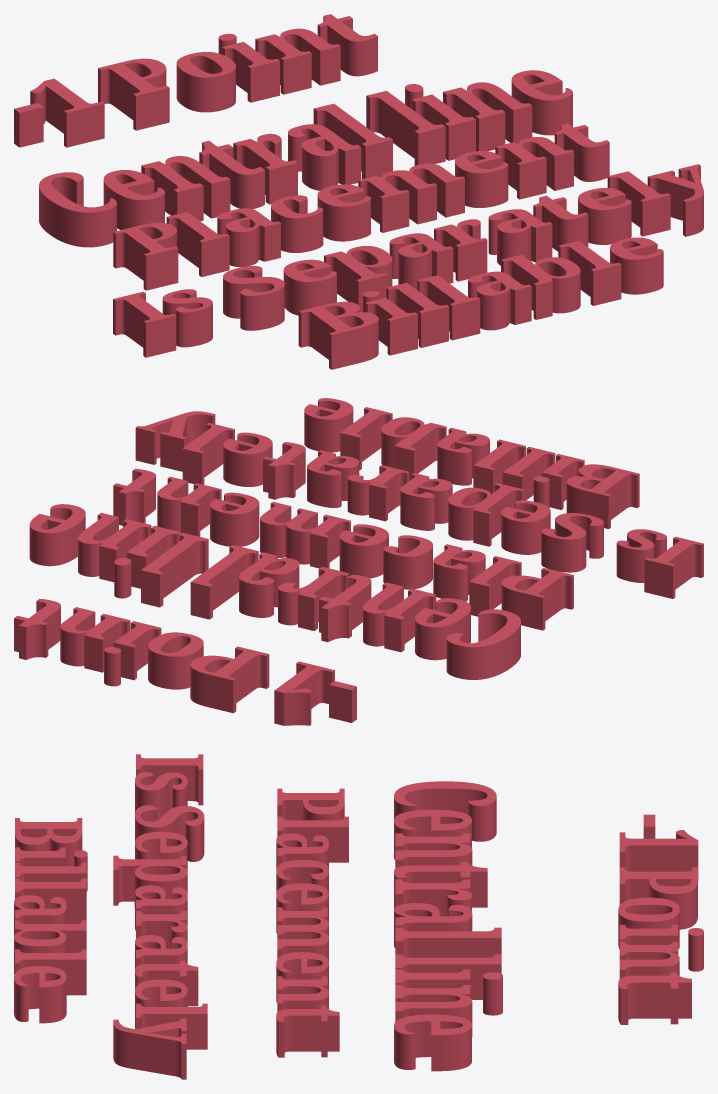
The model's file is necentral.gltf.
3 renders of one model, top to bottom at view 1: azimuth 30°, elevation 25°; view 2: azimuth 150°, elevation 25°; view 3: azimuth 270°, elevation 25°, orthographic. The views are drawn at different scales.
Parts seen in each view (by area): view 1: Mesh_Mesh_head_geo001_lambert2SG001; view 2: Mesh_Mesh_head_geo001_lambert2SG001; view 3: Mesh_Mesh_head_geo001_lambert2SG001.
Part boxes in pixels (<box>): Mesh_Mesh_head_geo001_lambert2SG001: <box>14,14,703,369</box>; Mesh_Mesh_head_geo001_lambert2SG001: <box>14,398,703,725</box>; Mesh_Mesh_head_geo001_lambert2SG001: <box>14,754,703,1079</box>.
Bounding box in the file's own units: 174 × 10 × 175.
